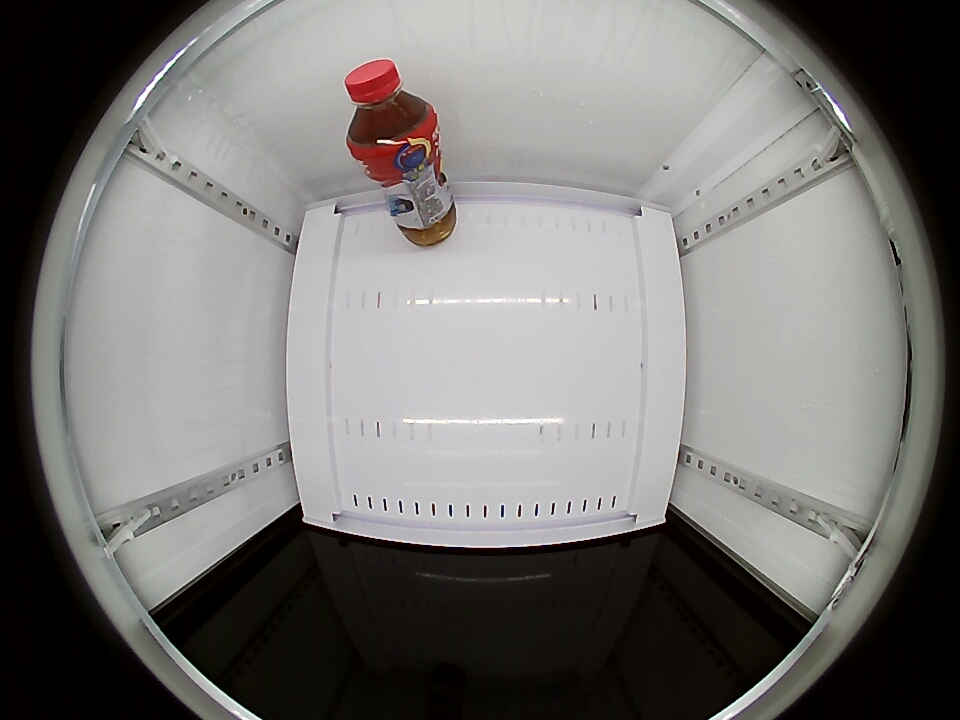binghongcha: (343, 57, 437, 160)
